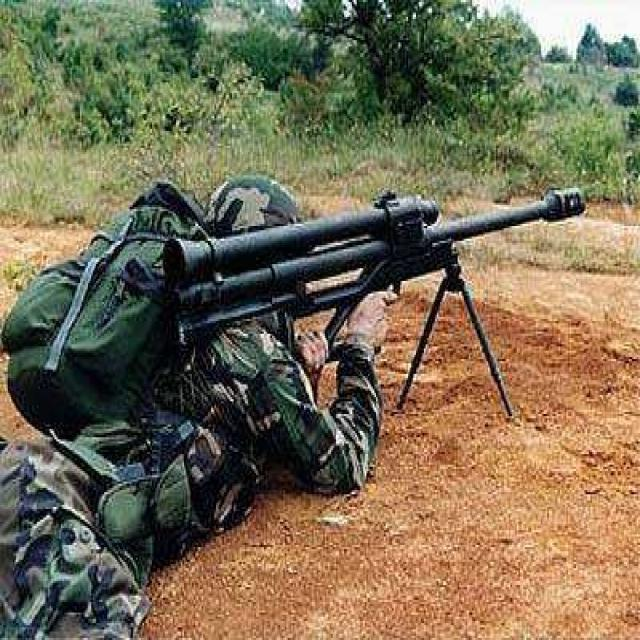weapon: (166, 186, 584, 417)
